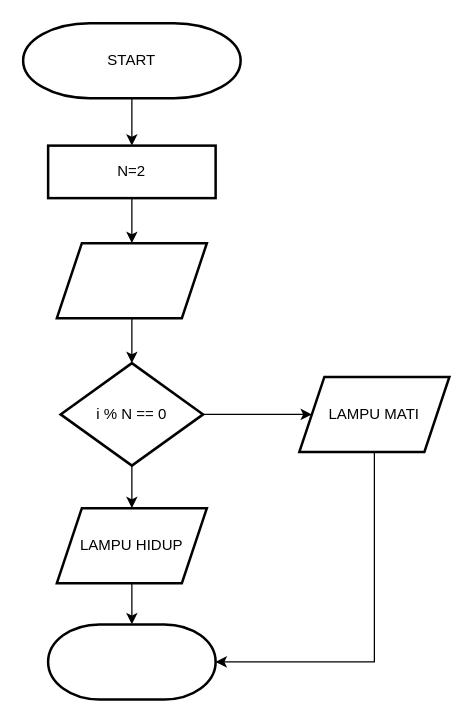
Image size: 471x721. Some labels were removed from this diagram. The shapes that lost their labels are listed below. From the top down, each one's box as (x1, y1, x2, y2) in pixels, then its label:
(55, 241, 208, 319): MASUKKAN i
(46, 622, 216, 700): FINISH
